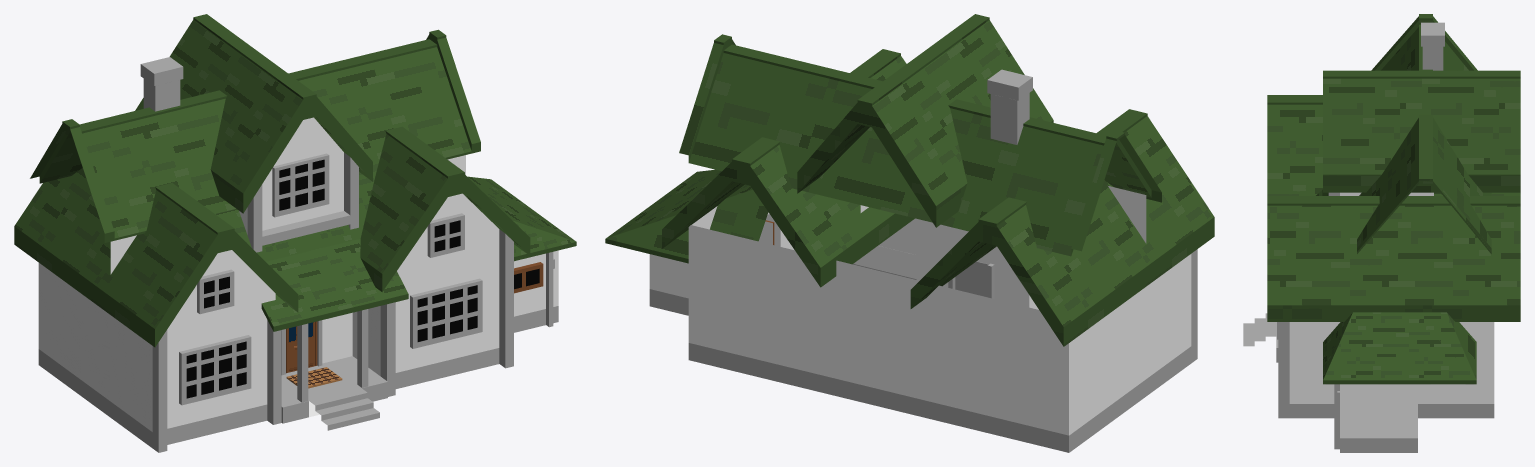
File: house1.fbx
3 renders of one model, left to right at view 1: azimuth 30°, elevation 25°; view 2: azimuth 150°, elevation 25°; view 3: azimuth 270°, elevation 25°, orthographic. The views are drawn at different scales.
Parts seen in each view (by area): view 1: Roof, Frame, Pillars, Windows, Cube, Cube.001; view 2: Roof, Frame, Pillars, Cube; view 3: Roof, Frame, Pillars.
Boxes of the visible parts, bbox=[...] form: Roof: bbox=[14, 14, 576, 347]; Frame: bbox=[38, 117, 558, 448]; Pillars: bbox=[140, 57, 554, 452]; Windows: bbox=[179, 153, 543, 405]; Cube: bbox=[286, 321, 317, 373]; Cube.001: bbox=[286, 367, 342, 388]; Roof: bbox=[605, 14, 1214, 346]; Frame: bbox=[649, 186, 1191, 452]; Pillars: bbox=[948, 69, 1197, 363]; Cube: bbox=[955, 261, 988, 297]; Roof: bbox=[1267, 14, 1520, 384]; Frame: bbox=[1243, 192, 1494, 452]; Pillars: bbox=[1277, 22, 1444, 449].
Bounding box in the file's own units: 436 × 278 × 257.
